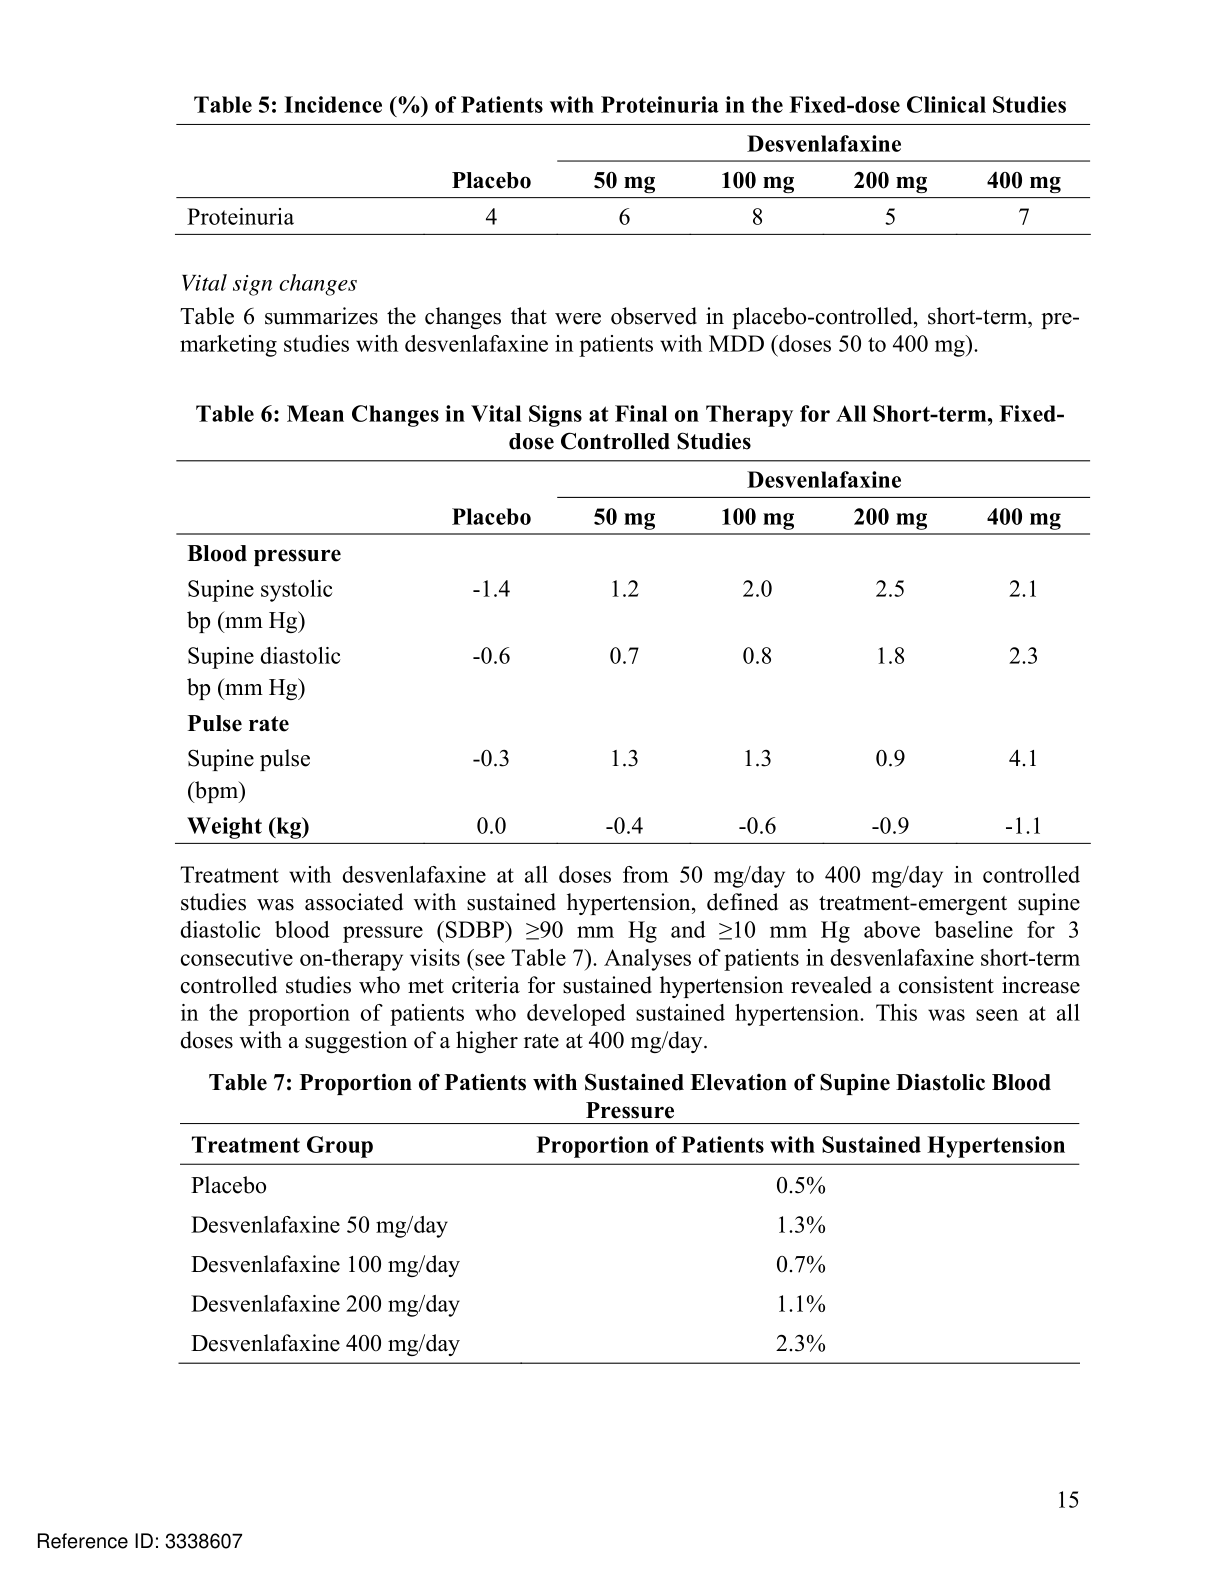partial_lined: (179, 1121, 1085, 1367)
partial_lined_merged_cells: (174, 456, 1097, 847), (174, 120, 1095, 238)
